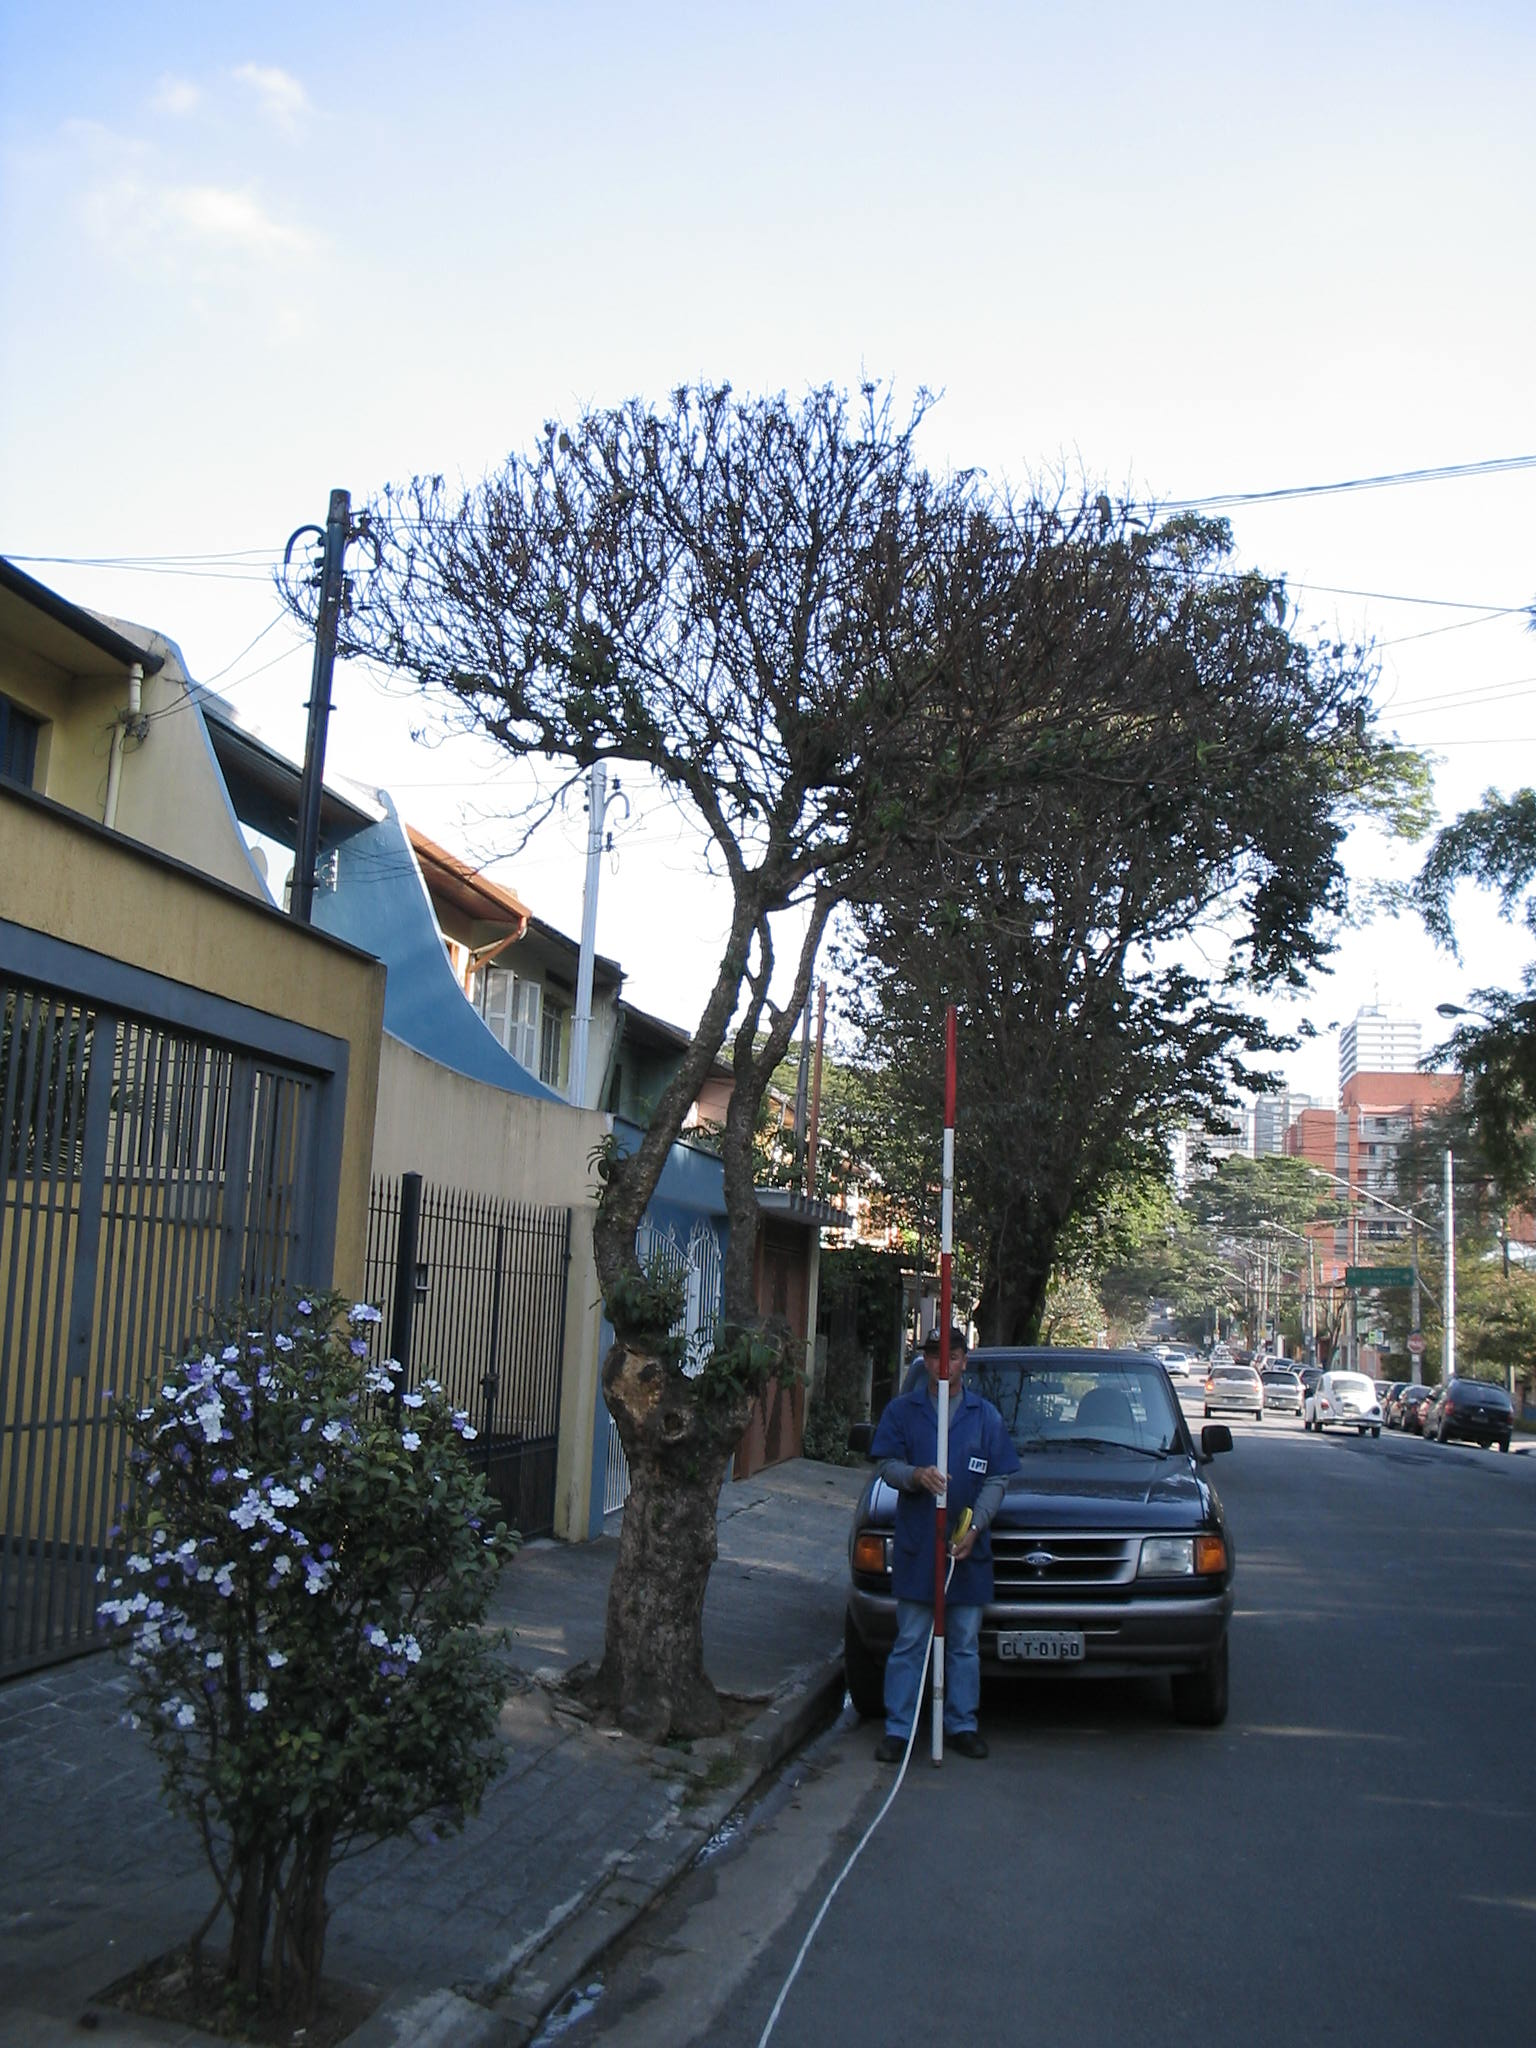crown: (282, 389, 1205, 911)
stem: (582, 1419, 750, 1738)
stick: (918, 1009, 975, 1767)
tree: (279, 381, 1208, 1746)
